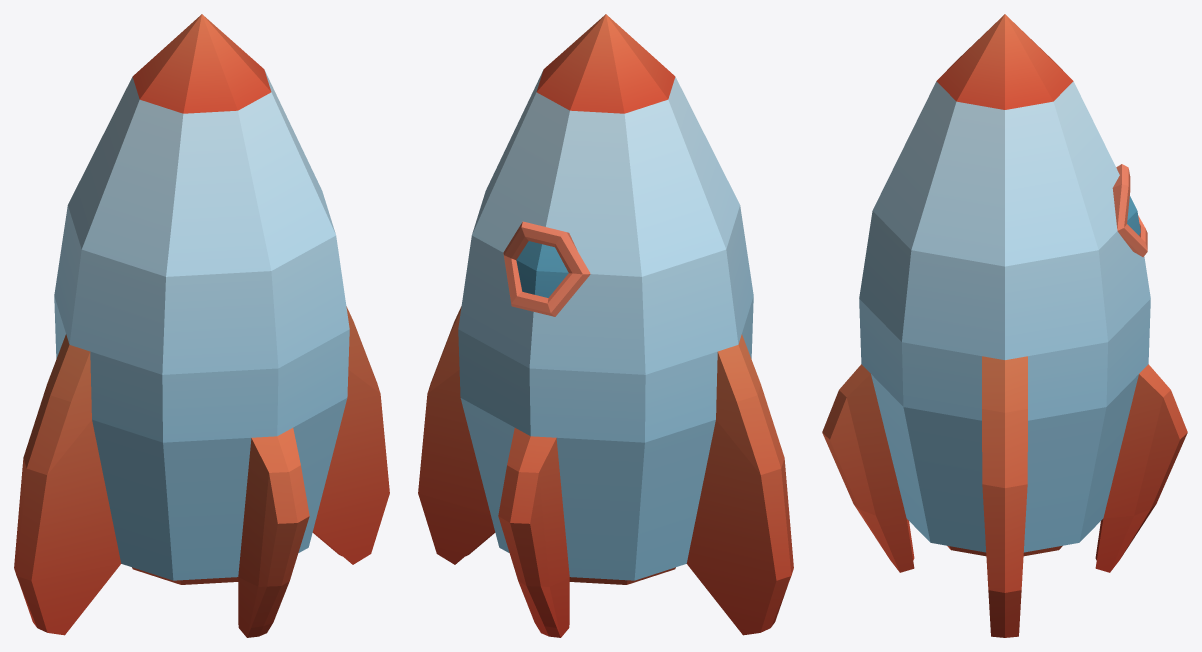
File: rocket.fbx
The picture shows the model from 3 angles, left to right: view 1: azimuth 30°, elevation 25°; view 2: azimuth 150°, elevation 25°; view 3: azimuth 270°, elevation 25°; orthographic projection. The views are drawn at different scales.
Parts seen in each view (by area): view 1: Sphere; view 2: Sphere, Torus.001; view 3: Sphere, Torus.001.
Boxes of the visible parts, bbox=[...] form: Sphere: bbox=[14, 14, 389, 637]; Sphere: bbox=[418, 14, 793, 637]; Torus.001: bbox=[503, 221, 590, 316]; Sphere: bbox=[822, 14, 1187, 637]; Torus.001: bbox=[1112, 164, 1147, 257].
Size of the model in its own units: 217 by 325 by 194.
2 materials, 2 textured.
